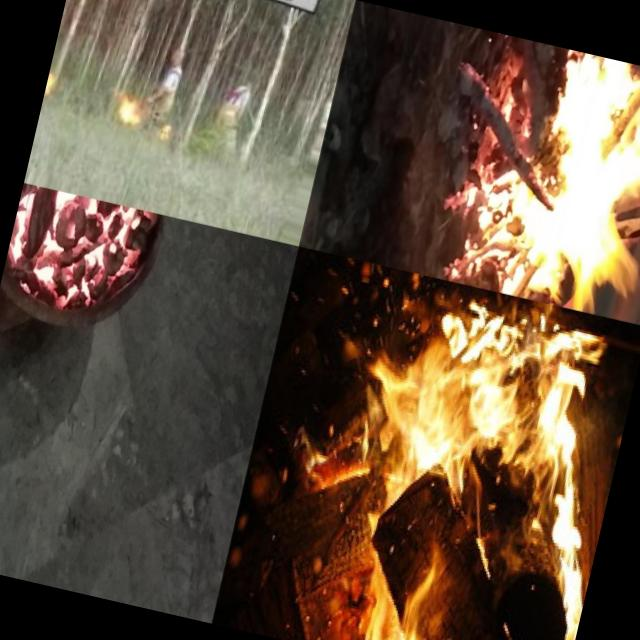fire: (302, 277, 640, 640), (416, 80, 640, 324), (0, 182, 145, 331), (43, 90, 85, 134), (42, 64, 66, 104)
